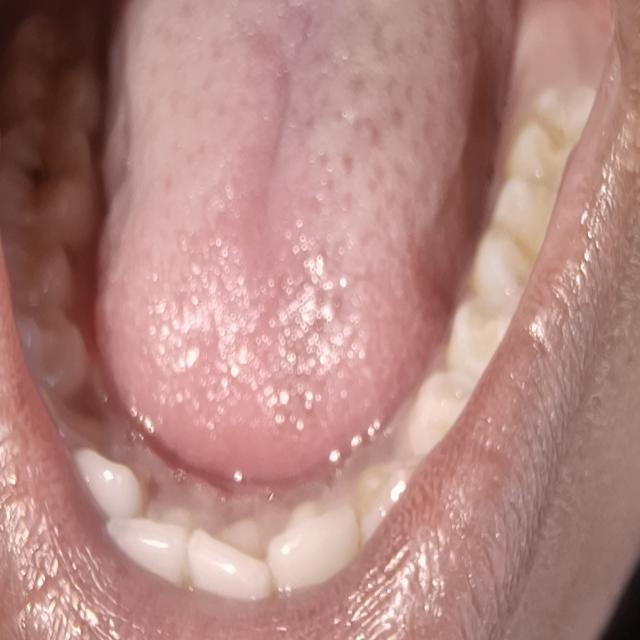processing_area: (101, 0, 500, 479)
